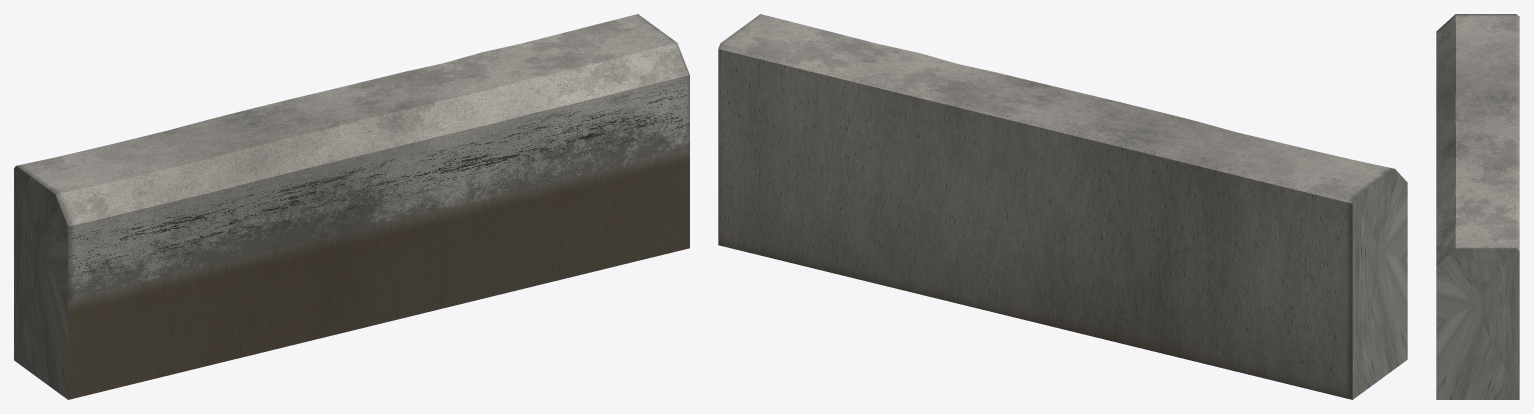
The model's file is curb_straight_web.glb.
The picture shows the model from 3 angles, left to right: view 1: azimuth 30°, elevation 25°; view 2: azimuth 150°, elevation 25°; view 3: azimuth 270°, elevation 25°; orthographic projection. The views are drawn at different scales.
Visible parts, largest first — view 1: curb_straight_Mesh; view 2: curb_straight_Mesh; view 3: curb_straight_Mesh.
Part boxes in pixels (x1,y1,x2,y2): curb_straight_Mesh: (14,14,689,399); curb_straight_Mesh: (718,14,1407,399); curb_straight_Mesh: (1436,14,1519,399).
Bounding box in the file's own units: 0.995 × 0.3 × 0.15.
1 material, 1 textured.
